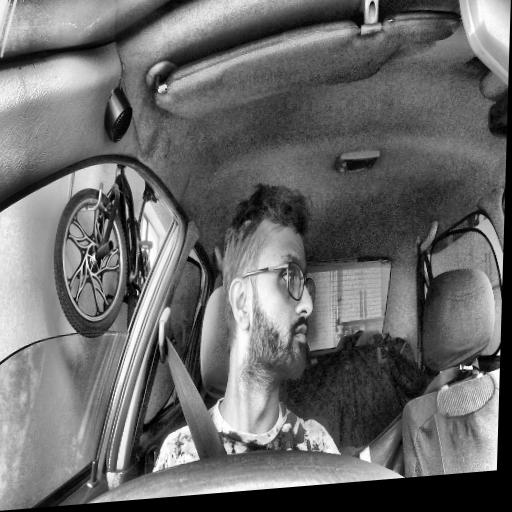awake: (218, 177, 320, 387)
